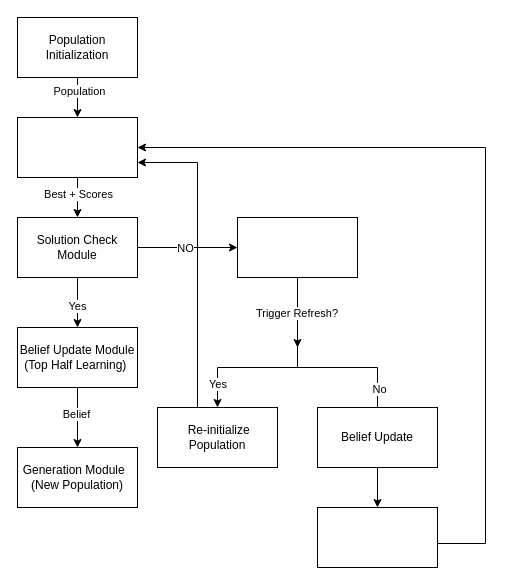
Image size: 511x585. Some labels were removed from this diagram. Here are the shapes that lost their labels. From the top down, the centre of each, then its label:
At pixel 77 147: "Evaluation Module (Heuristic Calculation)".
At pixel 297 247: "Stagnation Monitor".
At pixel 377 537: "New Population Generation".
